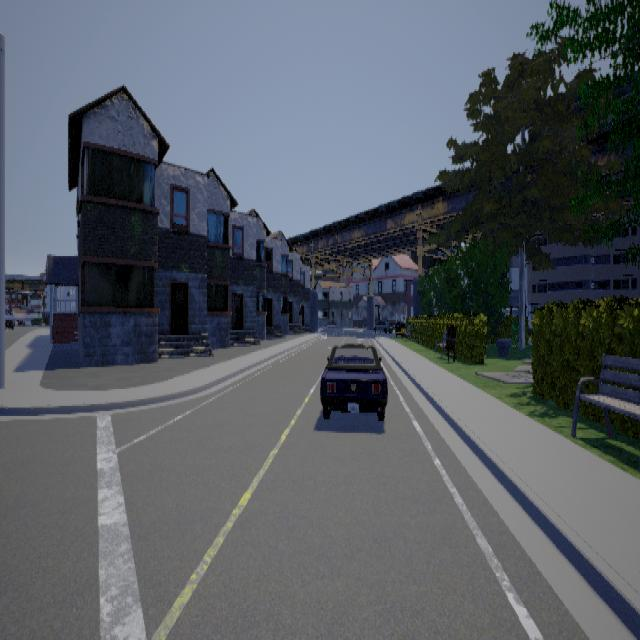vehicle: (319, 342, 387, 419)
